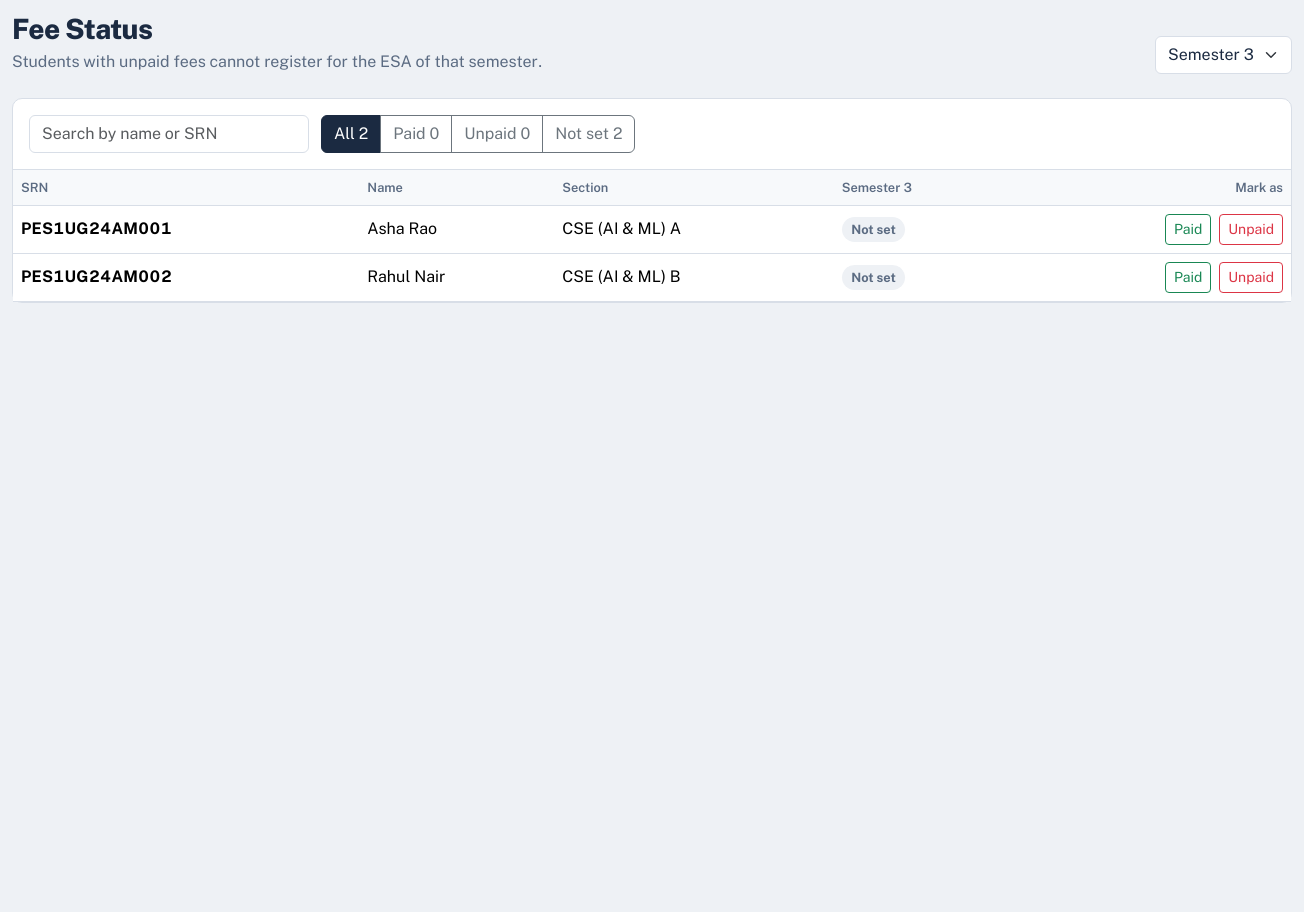
Test: Fee Status page (F-015, TC-FEE-01) › shows the server's error when saving fails
Click the button with aria-label "Mark Asha Rao paid".
click(1188, 229)  # box left=1165, top=214, right=1211, bottom=245
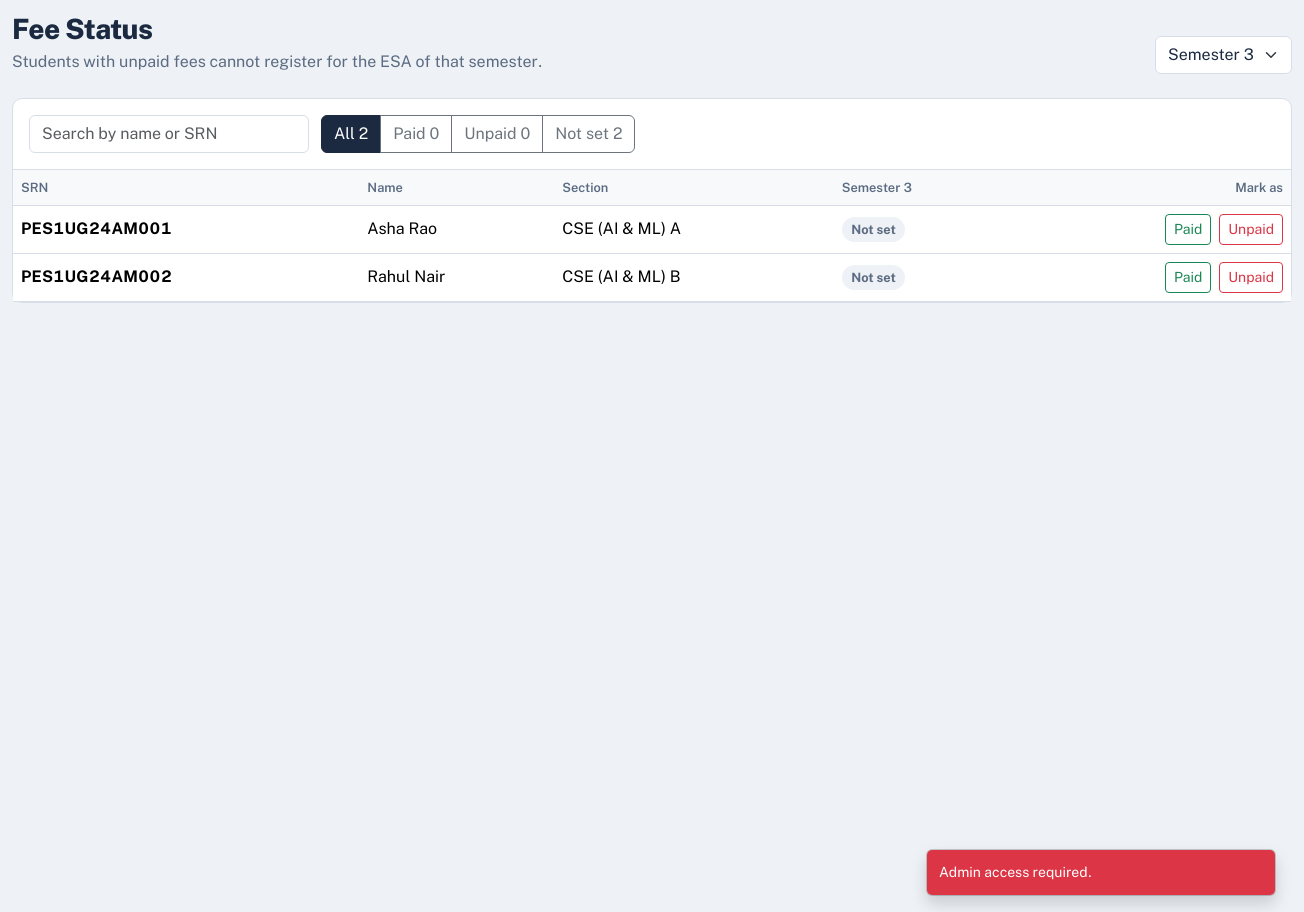
Check: the text "Admin access required." is shown, box left=939, top=864, right=1092, bottom=880
